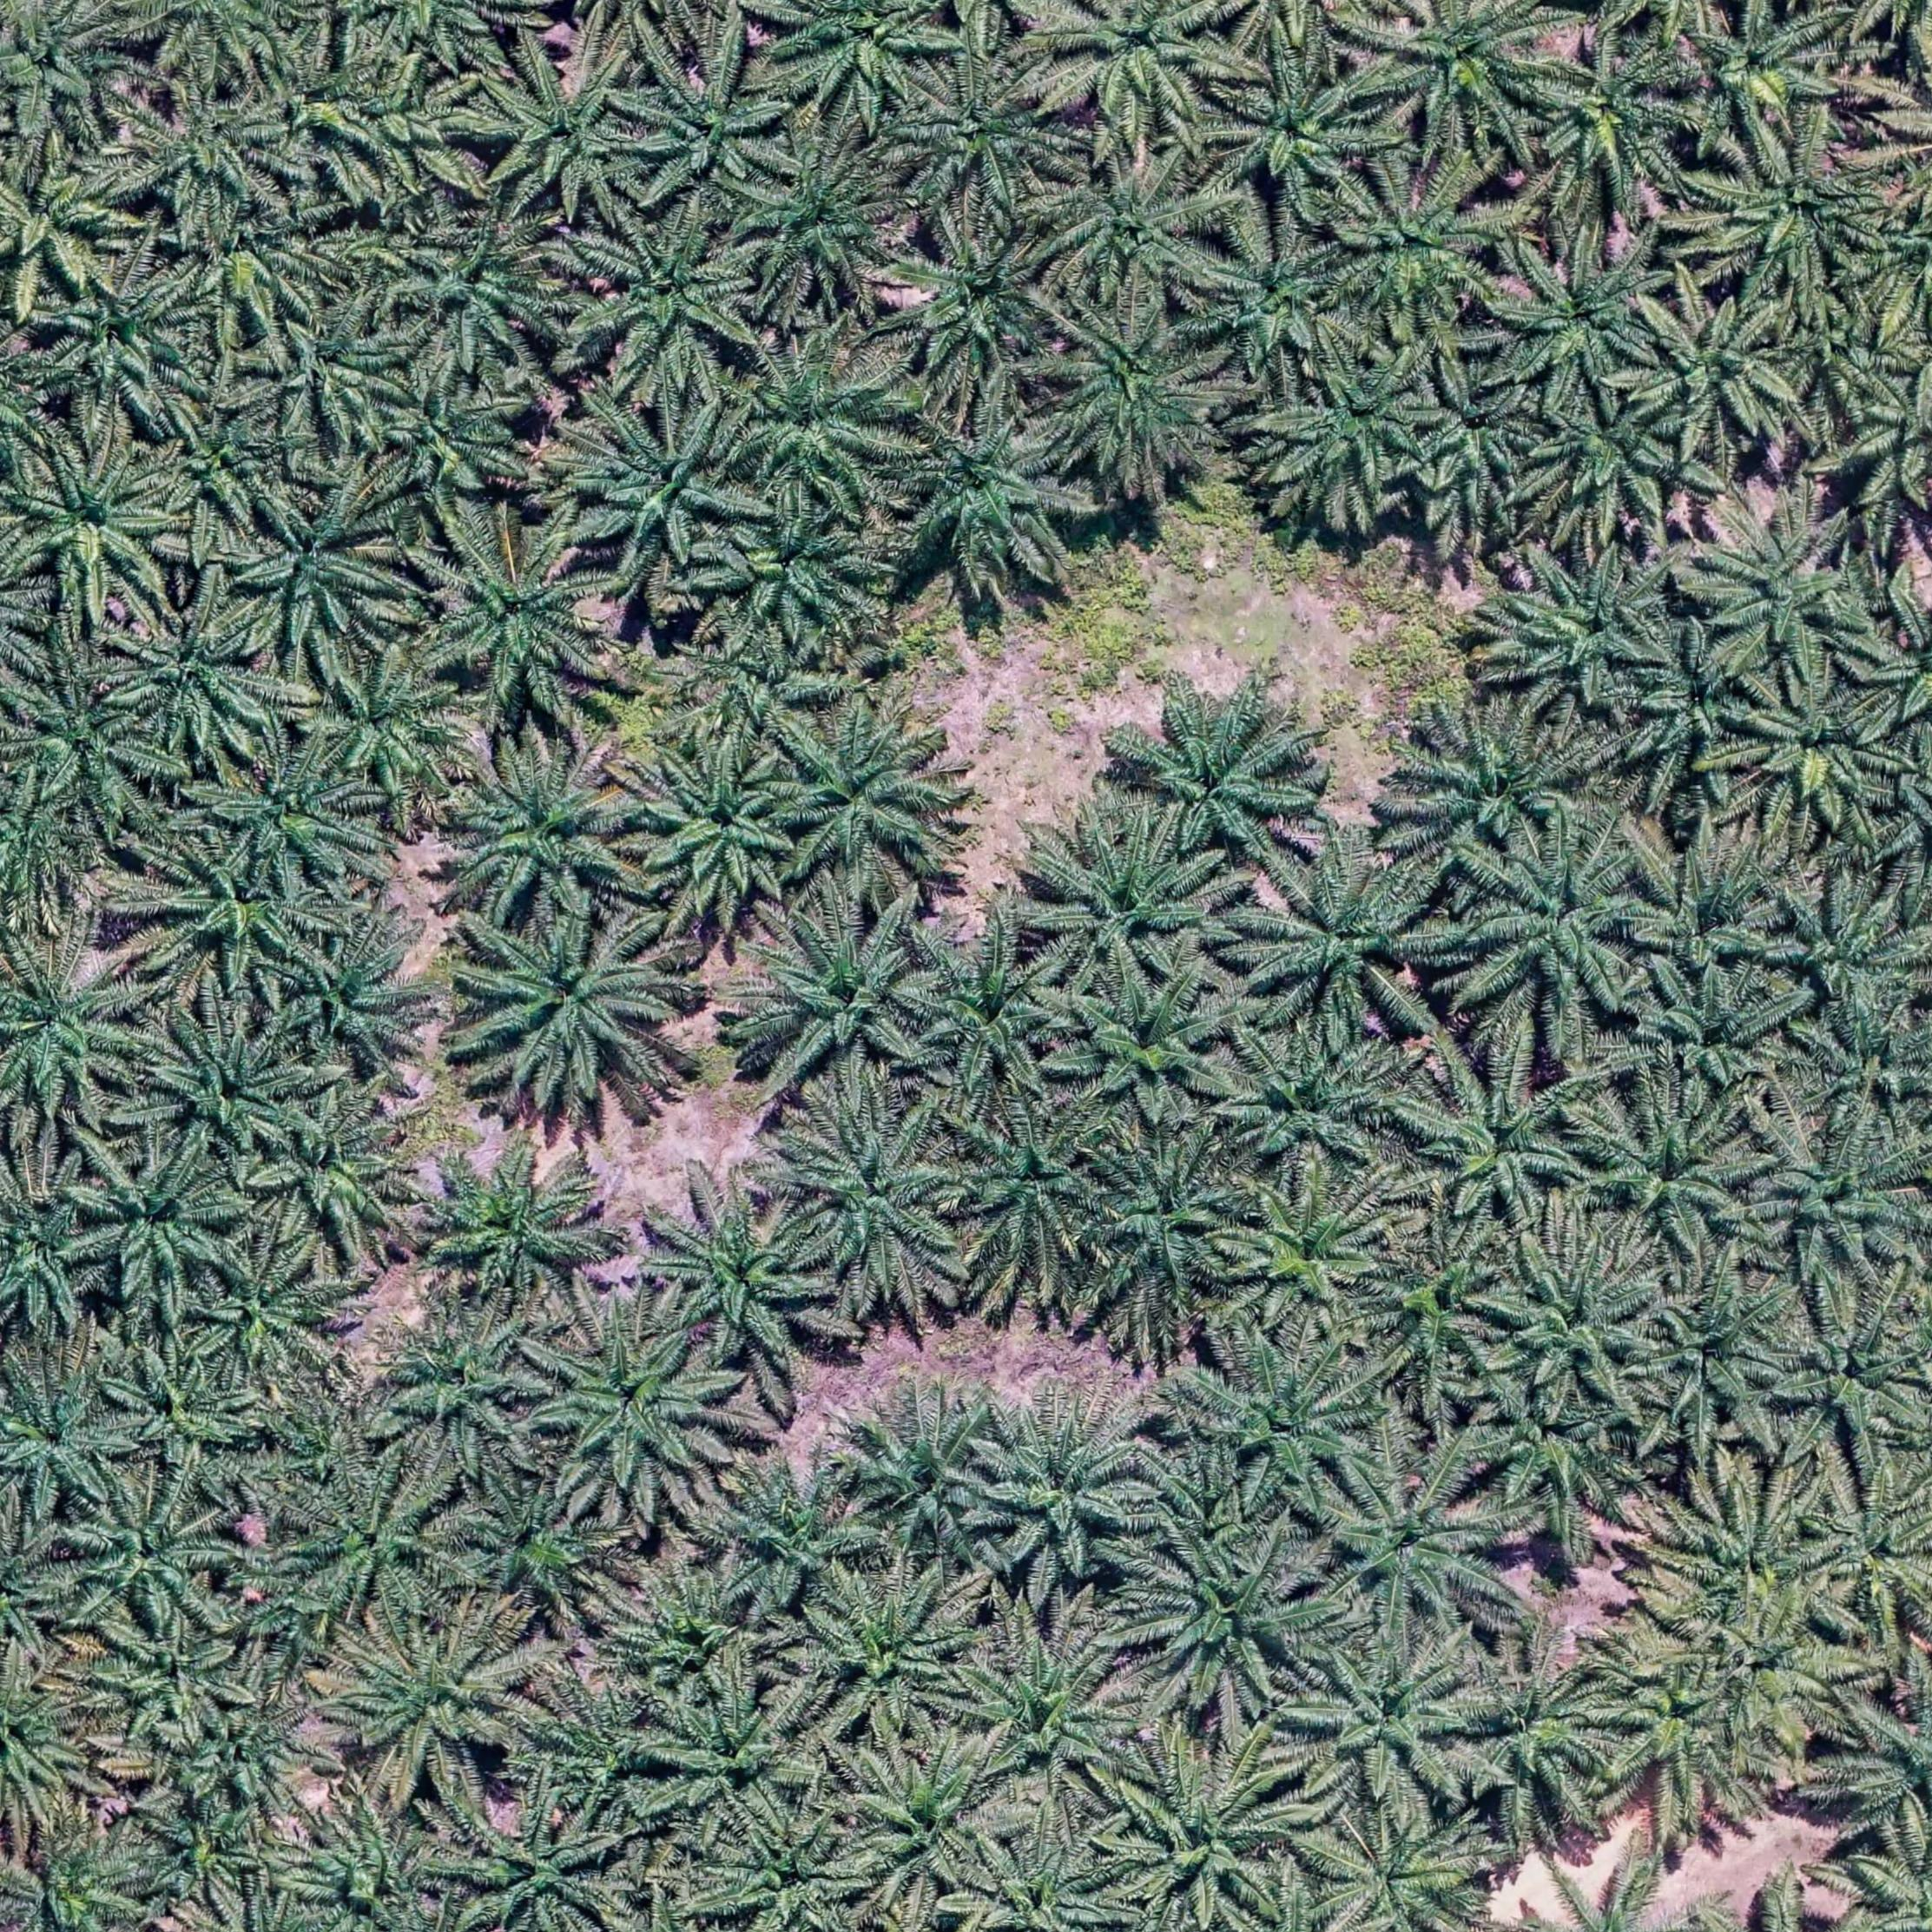palmtree: (455, 908, 681, 1109), (533, 1311, 736, 1507), (1465, 833, 1668, 1028), (1023, 814, 1233, 996), (740, 908, 941, 1093), (1249, 853, 1453, 1037), (1134, 1525, 1339, 1707), (334, 1614, 540, 1794), (425, 525, 617, 717), (1408, 1053, 1605, 1240), (446, 743, 639, 929), (780, 1104, 968, 1293), (1106, 1743, 1302, 1921), (978, 1396, 1164, 1583), (571, 212, 763, 395), (1704, 127, 1897, 306), (1297, 1635, 1491, 1810), (1396, 701, 1603, 865), (421, 1141, 617, 1315), (1192, 1339, 1384, 1516), (1582, 1092, 1773, 1269), (1695, 494, 1875, 679), (773, 711, 954, 897), (890, 409, 1081, 584), (791, 1568, 984, 1741), (1323, 1460, 1509, 1638), (1127, 690, 1315, 867), (1049, 306, 1235, 483), (644, 1191, 832, 1366), (1495, 545, 1679, 722), (1633, 1274, 1810, 1456), (472, 44, 660, 216), (1525, 32, 1702, 212), (1493, 232, 1679, 400), (635, 741, 810, 918), (962, 1629, 1145, 1799), (1491, 1237, 1674, 1407), (904, 932, 1081, 1106), (890, 218, 1069, 389), (1056, 968, 1246, 1129), (1221, 1026, 1412, 1185), (573, 405, 755, 571), (646, 1683, 830, 1847), (372, 1302, 550, 1470), (734, 336, 915, 502), (234, 481, 410, 649), (1652, 1477, 1831, 1644), (954, 1104, 1123, 1277), (1451, 1649, 1624, 1819), (1750, 1118, 1927, 1284), (840, 1399, 1019, 1564), (251, 1097, 432, 1260), (157, 186, 327, 357), (1622, 837, 1799, 1001), (1373, 0, 1568, 149), (1766, 1290, 1930, 1465), (142, 830, 320, 989), (16, 444, 184, 612), (1470, 1371, 1647, 1530), (448, 1472, 626, 1629), (1594, 1649, 1753, 1824), (1329, 166, 1506, 324), (391, 219, 568, 377), (1628, 964, 1806, 1120), (281, 1474, 464, 1626), (847, 1744, 1017, 1907), (39, 260, 209, 423), (1090, 1134, 1258, 1297), (76, 1141, 246, 1302), (138, 1012, 317, 1164), (715, 494, 893, 646), (1638, 288, 1806, 449), (115, 596, 283, 757), (1734, 674, 1902, 835), (1272, 354, 1444, 511), (1224, 1178, 1399, 1332), (740, 145, 911, 301), (308, 649, 481, 803), (901, 57, 1076, 209), (0, 943, 149, 1122), (1614, 626, 1773, 793), (1215, 53, 1385, 209), (271, 920, 442, 1074), (209, 745, 380, 899), (120, 74, 297, 223), (708, 1458, 874, 1615), (1049, 152, 1224, 301), (1359, 1231, 1516, 1396), (1674, 0, 1847, 149), (159, 1679, 336, 1824), (600, 1560, 778, 1704), (368, 364, 536, 517), (248, 294, 416, 446), (106, 1341, 276, 1491), (67, 1484, 239, 1633), (633, 50, 798, 203), (1053, 0, 1242, 131), (1196, 228, 1357, 380), (1529, 386, 1690, 538), (1759, 881, 1923, 1028), (303, 1799, 476, 1932), (11, 674, 168, 819), (0, 1364, 140, 1527), (198, 1240, 356, 1384), (94, 1614, 255, 1753), (0, 143, 134, 310), (531, 1681, 681, 1829), (1410, 361, 1553, 517), (458, 1805, 630, 1932), (672, 621, 839, 750), (251, 35, 393, 182), (773, 0, 954, 115), (152, 395, 294, 538), (1320, 1813, 1490, 1932), (718, 1813, 886, 1932), (345, 62, 485, 200), (0, 1175, 108, 1346), (1815, 1477, 1932, 1631), (0, 1654, 104, 1824), (961, 1833, 1132, 1932), (1838, 347, 1932, 527), (0, 1826, 159, 1932), (1805, 1008, 1932, 1141), (1833, 1688, 1932, 1856), (1778, 292, 1916, 412), (0, 0, 117, 142), (138, 1794, 271, 1913), (235, 1569, 359, 1679), (0, 1516, 85, 1674), (0, 775, 94, 913)
